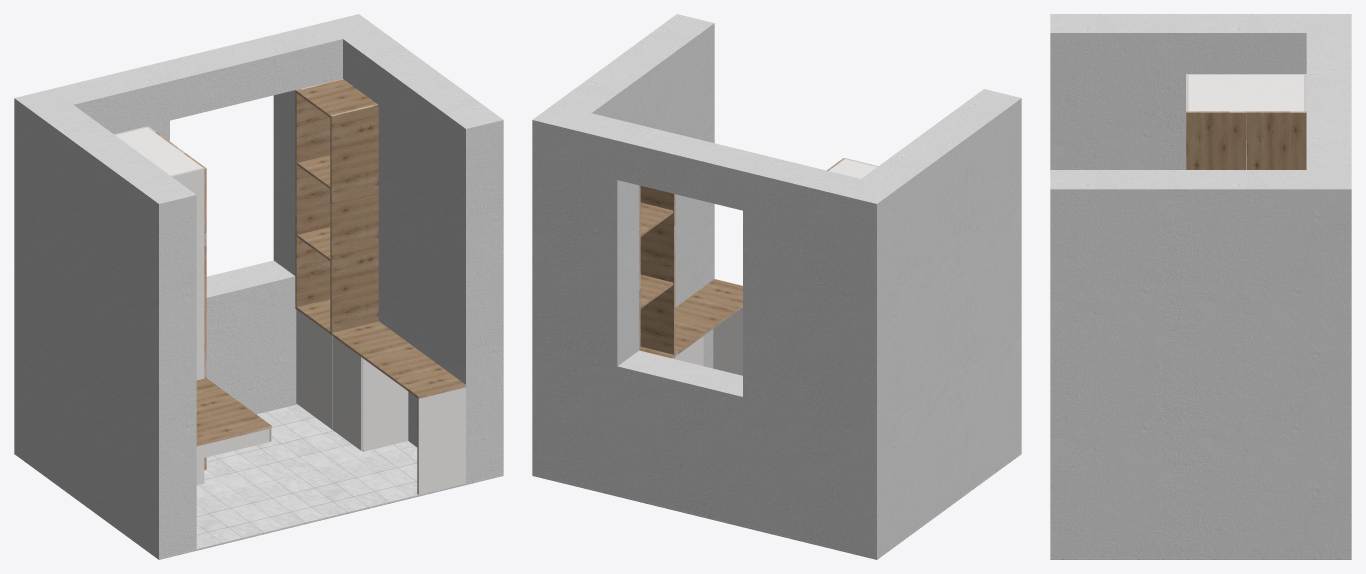
File: dytiacha-49-test.glb
3 views of the same model, side by side, from view 1: azimuth 30°, elevation 25°; view 2: azimuth 150°, elevation 25°; view 3: azimuth 270°, elevation 25° (orthographic). The views are drawn at different scales.
Parts seen in each view (by area): view 1: L (×2), R, Бок (×4), підлога, Горизонтальная (×2), Фасад Лівий (×2), Кришка (×2), Боковина ліва, Кришка антресолі, Полка (×2), Дно; view 2: L (×2), R, Горизонтальная (×2), Бок, Полка (×2), підлога; view 3: R, L (×2), Двері (×2), Кришка антресолі, підлога.
Part boxes in pixels (box(x1,y1,x2,y2)): L (×2): box(14, 23, 342, 557); R: box(321, 14, 503, 483); Бок (×4): box(196, 78, 408, 459); підлога: box(14, 404, 503, 559); Горизонтальная (×2): box(331, 321, 465, 494); Фасад Лівий (×2): box(296, 309, 363, 450); Кришка (×2): box(196, 79, 376, 446); Боковина ліва: box(171, 168, 204, 485); Кришка антресолі: box(115, 127, 202, 175); Полка (×2): box(297, 155, 330, 260); Дно: box(296, 299, 330, 333); L (×2): box(532, 89, 1021, 558); R: box(532, 14, 714, 368); Горизонтальная (×2): box(675, 279, 742, 375); Бок: box(640, 186, 675, 357); Полка (×2): box(640, 202, 673, 308); підлога: box(532, 452, 1021, 559); R: box(1050, 170, 1351, 558); L (×2): box(1050, 14, 1351, 558); Двері (×2): box(1186, 111, 1306, 169); Кришка антресолі: box(1188, 74, 1303, 113); підлога: box(1050, 558, 1351, 559).
Size of the model in its own units: 2750 by 2713 by 2001.
Materials: 10 (6 with a texture image).
